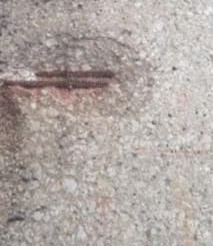Exposed reinforcement: (1, 79, 109, 91), (34, 69, 114, 80)
Spalling: (1, 32, 155, 113)
